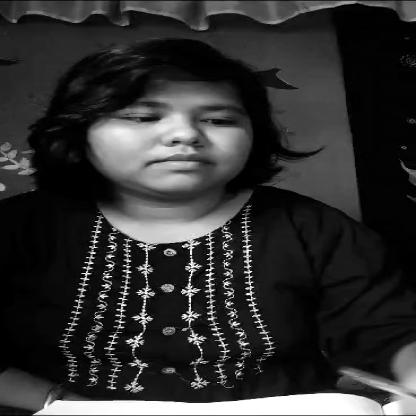Normal: (47, 40, 279, 210)
